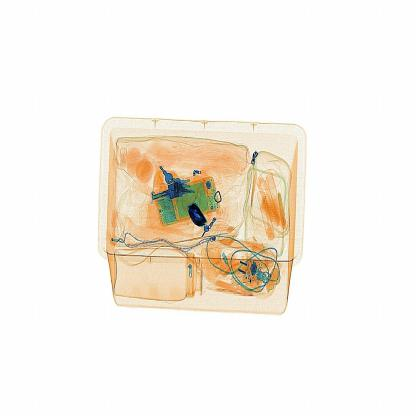scissors: (183, 198, 222, 240)
